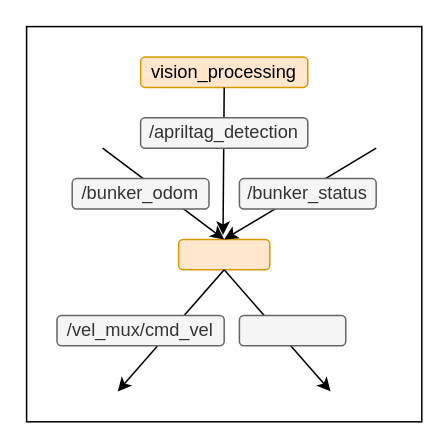
Image size: 448x448. Some labels were removed from this diagram. Each missing label, with the box of its shape:
/ptz/move: (238, 314, 346, 346)
docking: (177, 238, 270, 270)
